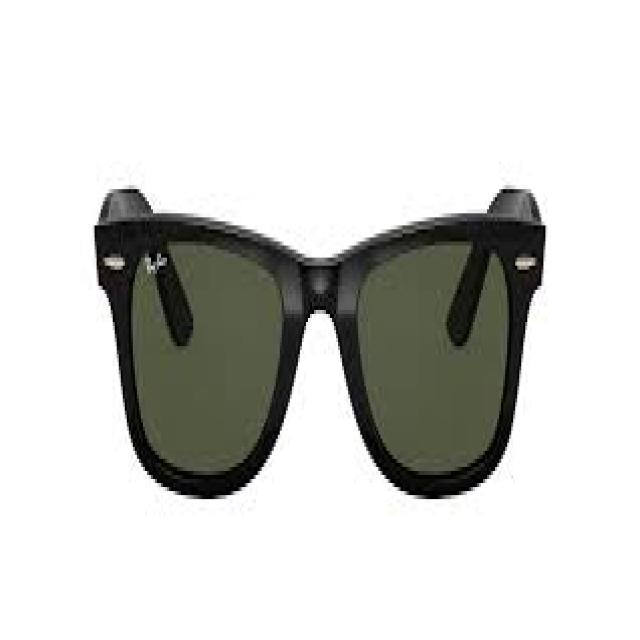sunglasses: (92, 179, 540, 501)
